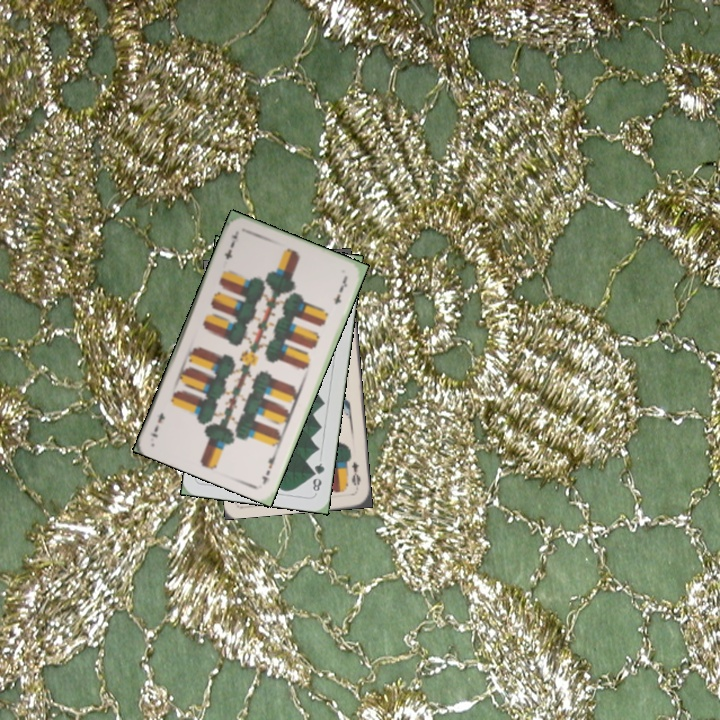E7: (258, 447, 280, 487), (220, 228, 241, 262)
EO: (347, 457, 363, 488)
G8: (308, 459, 327, 496)
